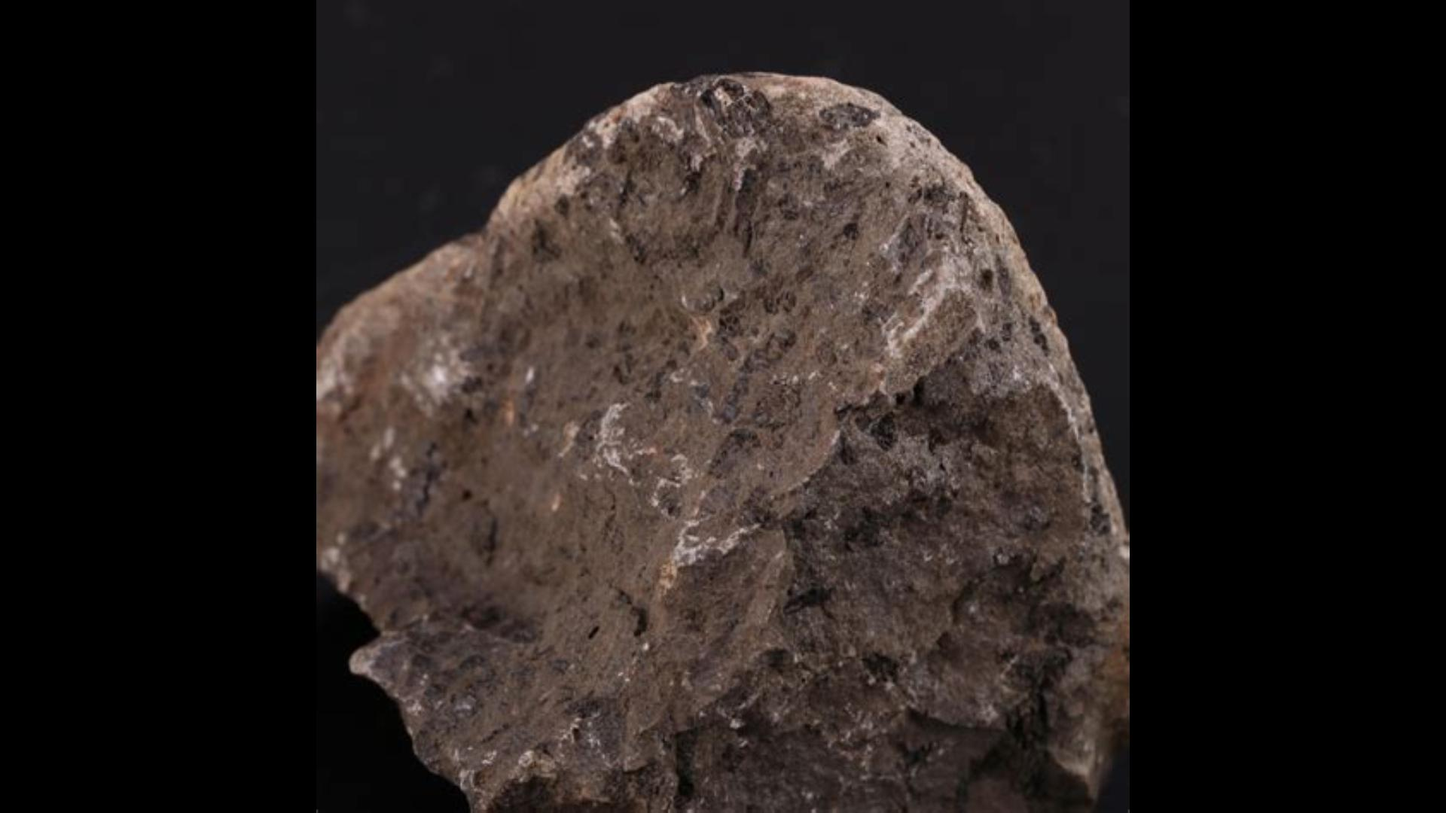rock: (316, 74, 1128, 811)
